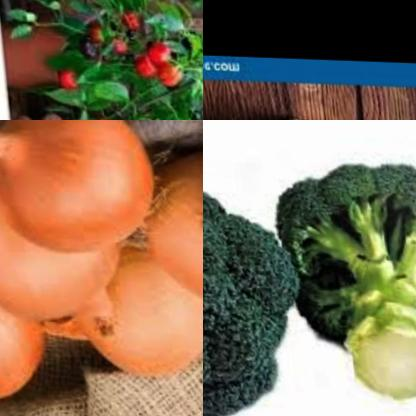broccoli: (257, 135, 416, 404), (203, 150, 316, 416)
hot pepper: (111, 22, 193, 99), (38, 20, 107, 93)
onion: (40, 242, 203, 388), (0, 120, 159, 256), (0, 165, 127, 328), (104, 146, 203, 314), (0, 280, 54, 416), (163, 120, 203, 256)
